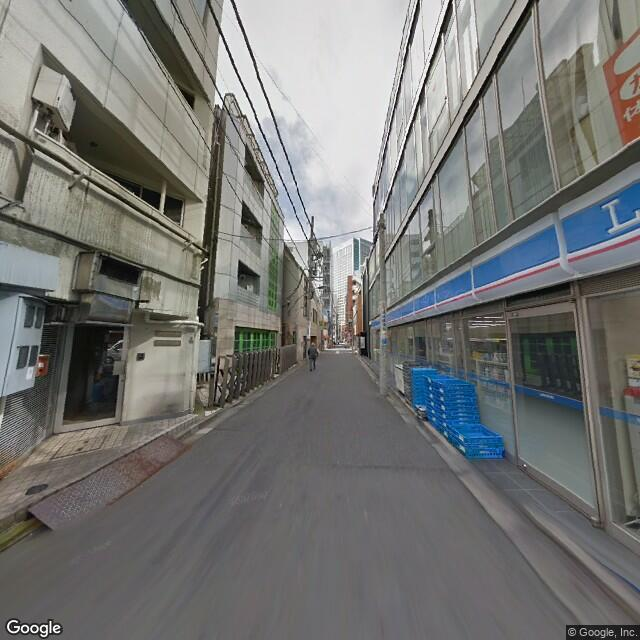lawson: (375, 156, 639, 331)
